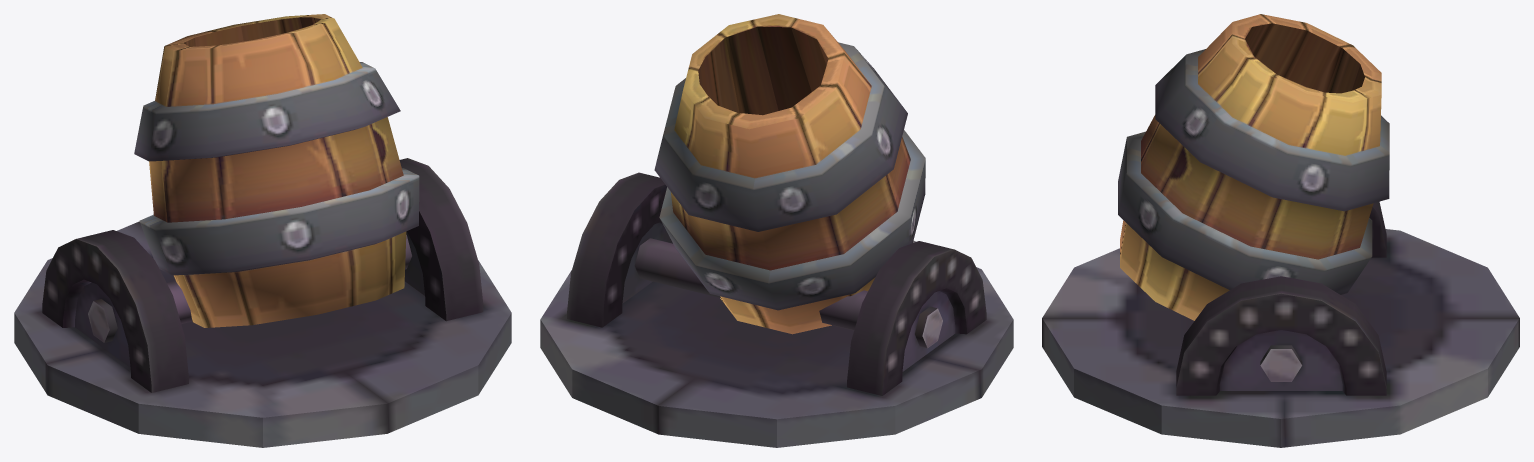
The model's file is Cannon.fbx.
3 renders of one model, left to right at view 1: azimuth 30°, elevation 25°; view 2: azimuth 150°, elevation 25°; view 3: azimuth 270°, elevation 25°, orthographic. The views are drawn at different scales.
Visible parts, largest first — view 1: barrelCannonBaseCircle, barrelCannon; view 2: barrelCannonBaseCircle, barrelCannon; view 3: barrelCannonBaseCircle, barrelCannon.
Boxes of the visible parts, bbox=[...] form: barrelCannonBaseCircle: bbox=[14, 158, 511, 447]; barrelCannon: bbox=[134, 14, 419, 327]; barrelCannonBaseCircle: bbox=[540, 172, 1013, 447]; barrelCannon: bbox=[654, 14, 925, 334]; barrelCannonBaseCircle: bbox=[1042, 201, 1519, 447]; barrelCannon: bbox=[1118, 14, 1389, 320].
Size of the model in its own units: 81.44 by 59.08 by 81.44.
